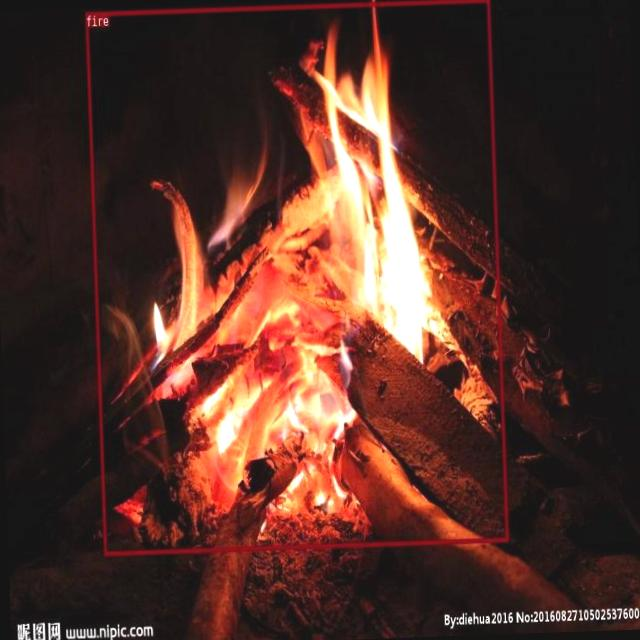fire: (84, 0, 507, 554)
